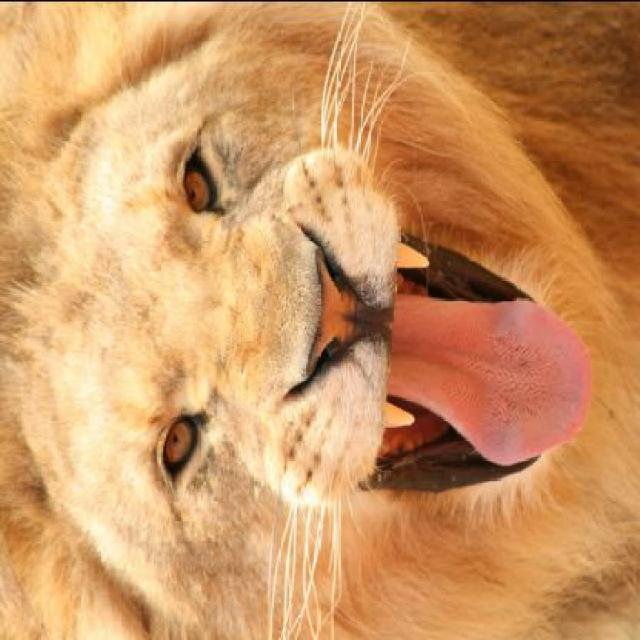Lion: (12, 8, 638, 634)
